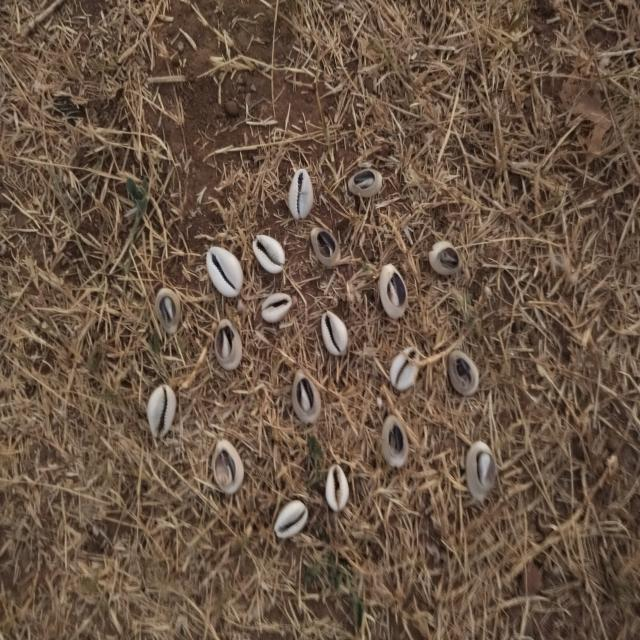facedown: (465, 438, 500, 506), (290, 366, 323, 427), (210, 437, 244, 496), (378, 259, 410, 320), (379, 412, 411, 473), (447, 345, 481, 399), (152, 284, 185, 336), (212, 316, 243, 371), (426, 238, 464, 278), (310, 224, 342, 270), (347, 163, 386, 200)
faceup: (202, 244, 244, 302), (144, 379, 178, 443), (389, 341, 421, 393), (318, 306, 349, 358), (287, 166, 315, 220), (273, 499, 309, 541), (251, 231, 286, 274), (324, 462, 351, 517), (259, 290, 294, 324)
